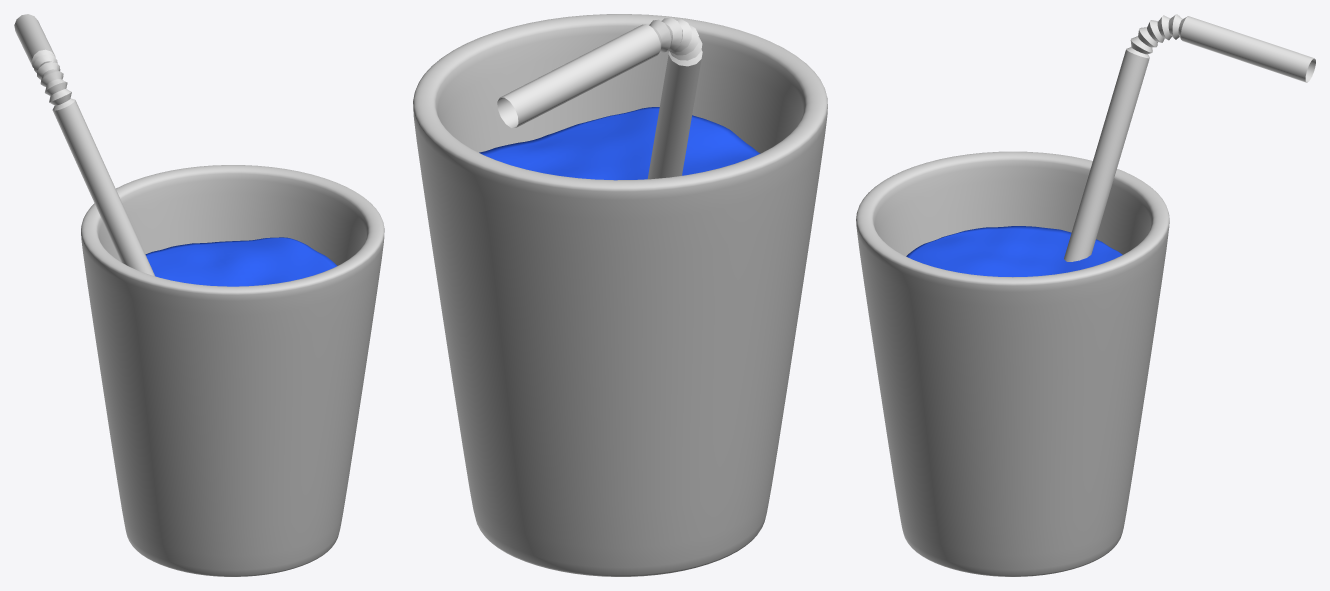
Rendered from glass.fbx.
3 renders of one model, left to right at view 1: azimuth 30°, elevation 25°; view 2: azimuth 150°, elevation 25°; view 3: azimuth 270°, elevation 25°, orthographic. The views are drawn at different scales.
Parts seen in each view (by area): view 1: glass, water, straw; view 2: glass, straw, water; view 3: glass, straw, water.
Part boxes in pixels (x1,y1,x2,y2): glass: (81, 165, 384, 576); water: (145, 237, 337, 286); straw: (14, 14, 154, 276); glass: (413, 14, 827, 576); straw: (497, 17, 702, 179); water: (479, 107, 760, 180); glass: (856, 151, 1169, 576); straw: (1064, 14, 1315, 261); water: (906, 226, 1122, 277).
Size of the model in its own units: 554 by 903 by 812.
